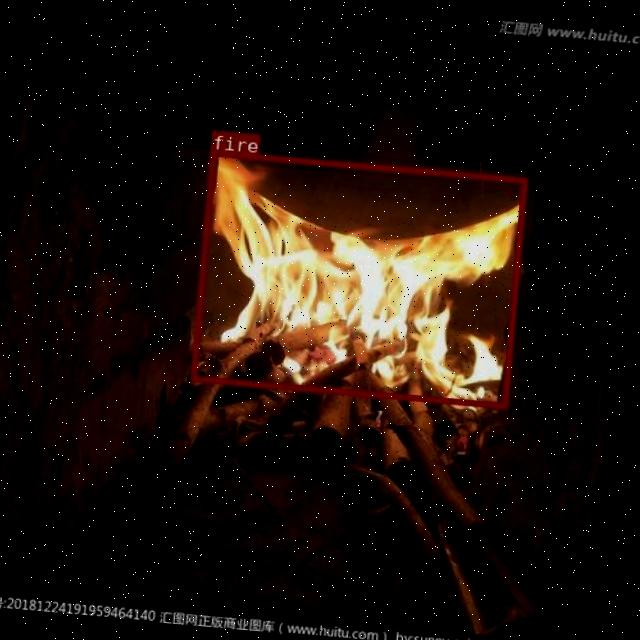fire: (189, 149, 526, 408)
